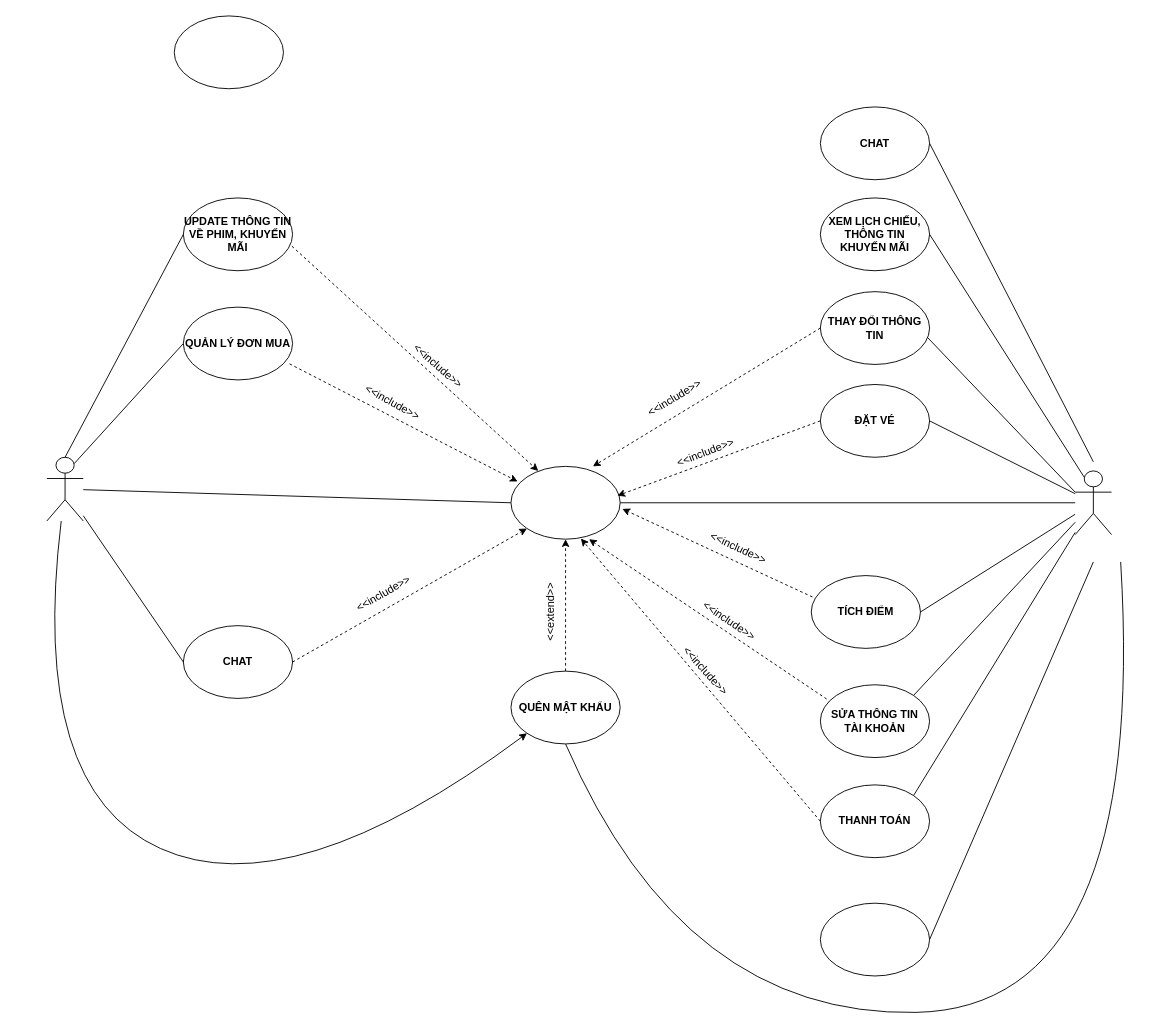
The diagram is 1150 pixels wide and 1029 high, and some of its shapes have lost their labels. The shapes that lost their labels are listed below. From the top down, each one's centre as x and y in pixels, then its label:
At (x=228, y=52): "QUẢN LÍ LỊCH CHIẾU".
At (x=64, y=488): "Người quản trị".
At (x=565, y=502): "ĐĂNG NHẬP".
At (x=1093, y=502): "Khách hàng".
At (x=874, y=939): "ĐĂNG KÍ".
